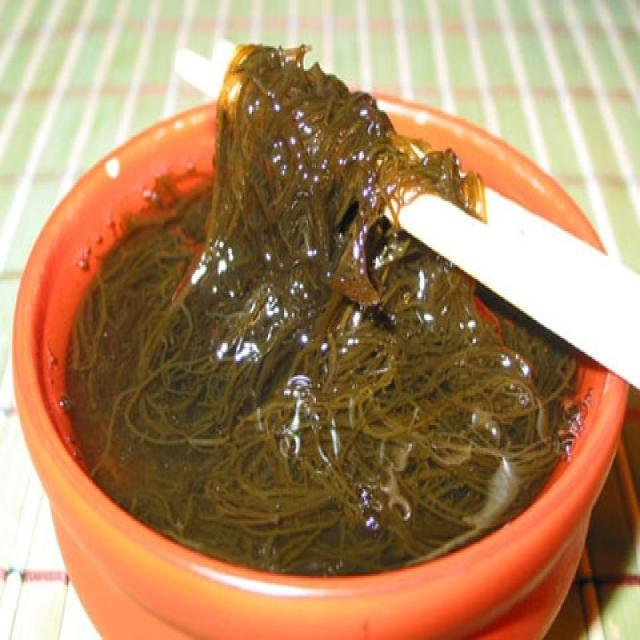蔬菜料理: (24, 28, 605, 604)
